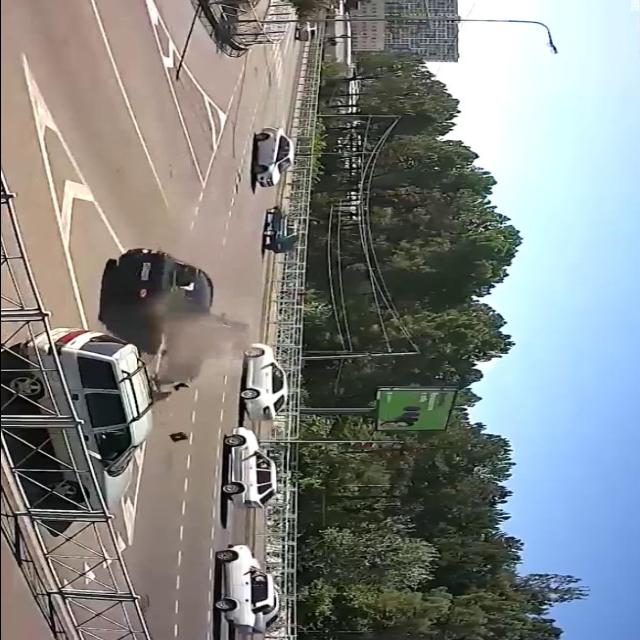accident: (100, 243, 254, 391)
non_accident: (214, 339, 294, 513), (244, 124, 306, 259), (207, 540, 285, 638)
